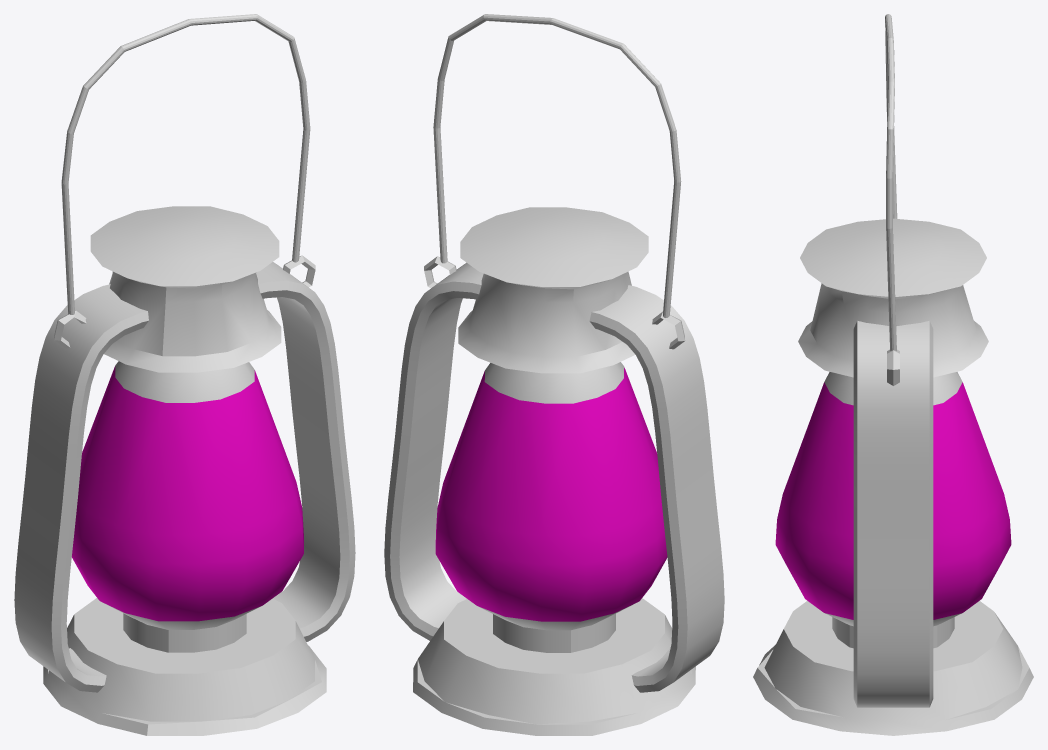
The model's file is lamp.fbx.
3 renders of one model, left to right at view 1: azimuth 30°, elevation 25°; view 2: azimuth 150°, elevation 25°; view 3: azimuth 270°, elevation 25°, orthographic. The views are drawn at different scales.
Parts seen in each view (by area): view 1: lamp; view 2: lamp; view 3: lamp.
Part boxes in pixels (x1,y1,x2,y2): lamp: (14, 14, 355, 735); lamp: (384, 14, 724, 735); lamp: (753, 14, 1033, 735).
Bounding box in the file's own units: 49.13 × 102 × 40.34.
